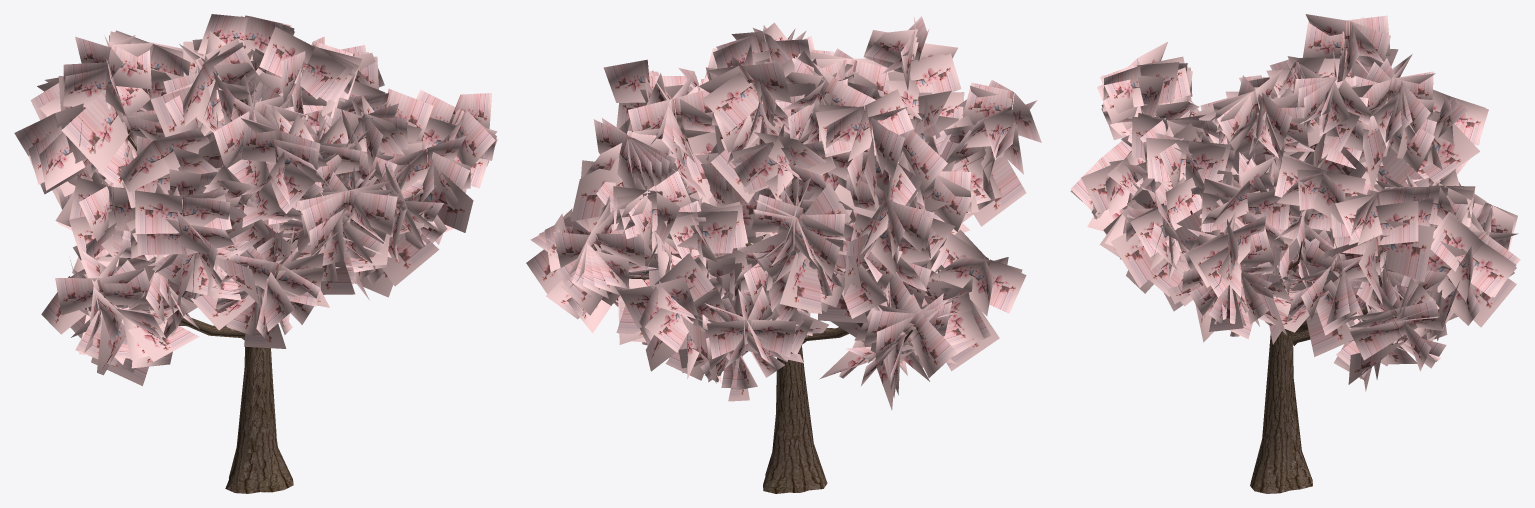
File: sakura.glb
The picture shows the model from 3 angles, left to right: view 1: azimuth 30°, elevation 25°; view 2: azimuth 150°, elevation 25°; view 3: azimuth 270°, elevation 25°; orthographic projection. The views are drawn at different scales.
Parts seen in each view (by area): view 1: Sakura; view 2: Sakura; view 3: Sakura.
Part boxes in pixels (box(x1,y1,x2,y2)): Sakura: box(14, 14, 497, 493); Sakura: box(526, 14, 1041, 493); Sakura: box(1070, 14, 1520, 493).
Size of the model in its own units: 0.4036 by 0.4172 by 0.4016.
2 materials, 2 textured.
